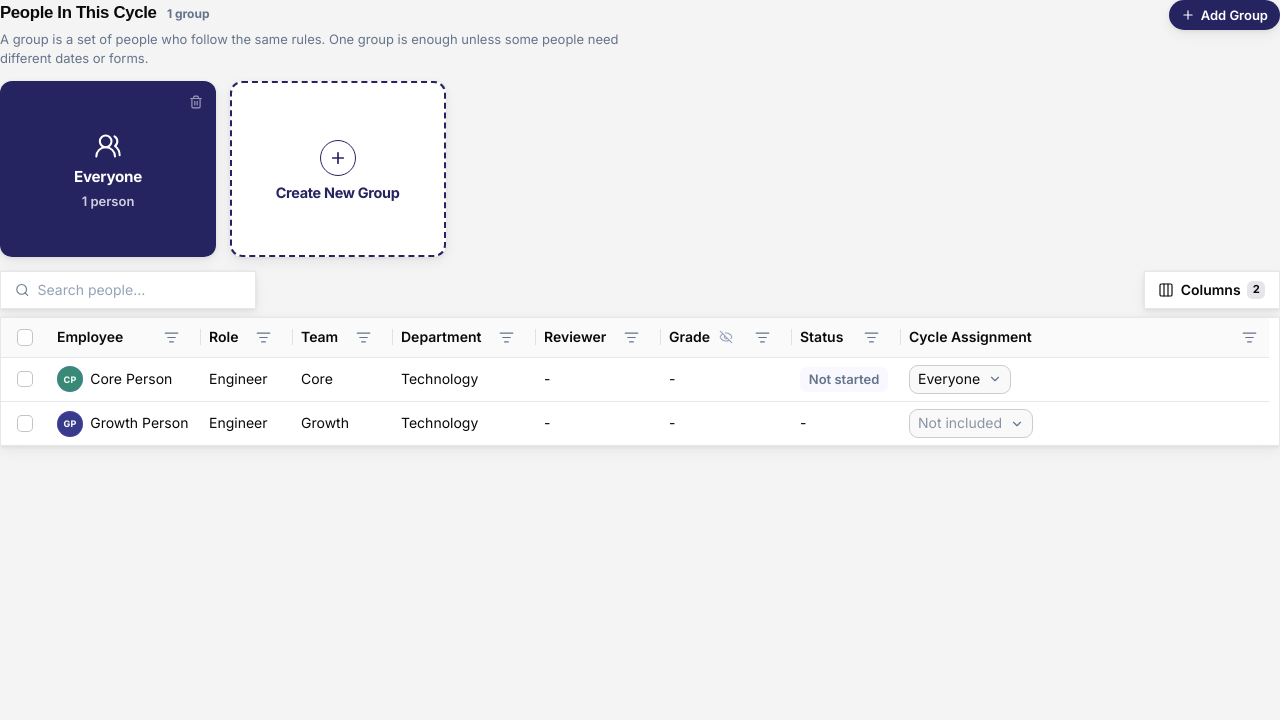
CycleGroupsSection › filters the people table from its column headers
Expected: the button named "Filter Employee" is shown, [159,325,183,349]
Click the button named "Filter Team" at (363, 337), box [351,325,375,349]
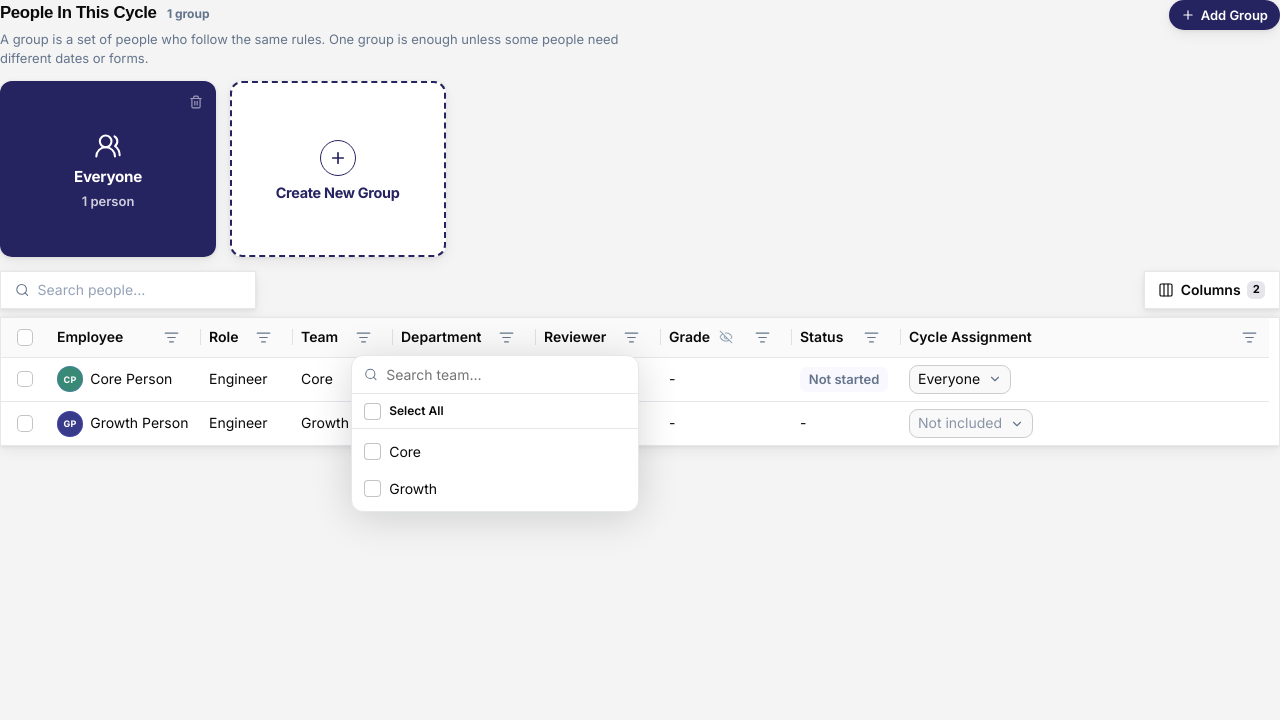
Click the option "Core" at (405, 452), box [352,433,638,470]
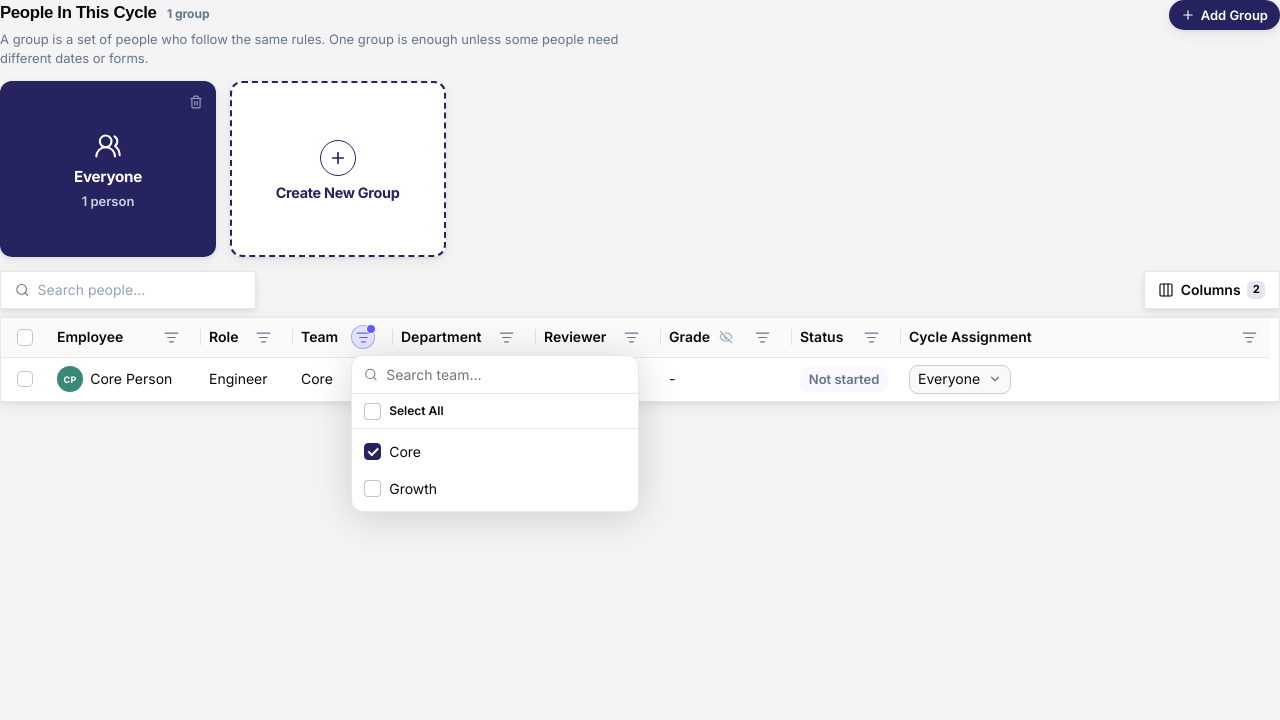
Expected: the text "Core Person" is shown, [90,370,172,389]
Expected: the text "Growth Person" is gone
